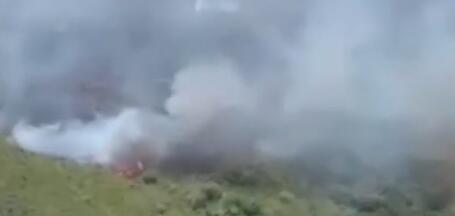yanwu: (5, 0, 454, 164)
